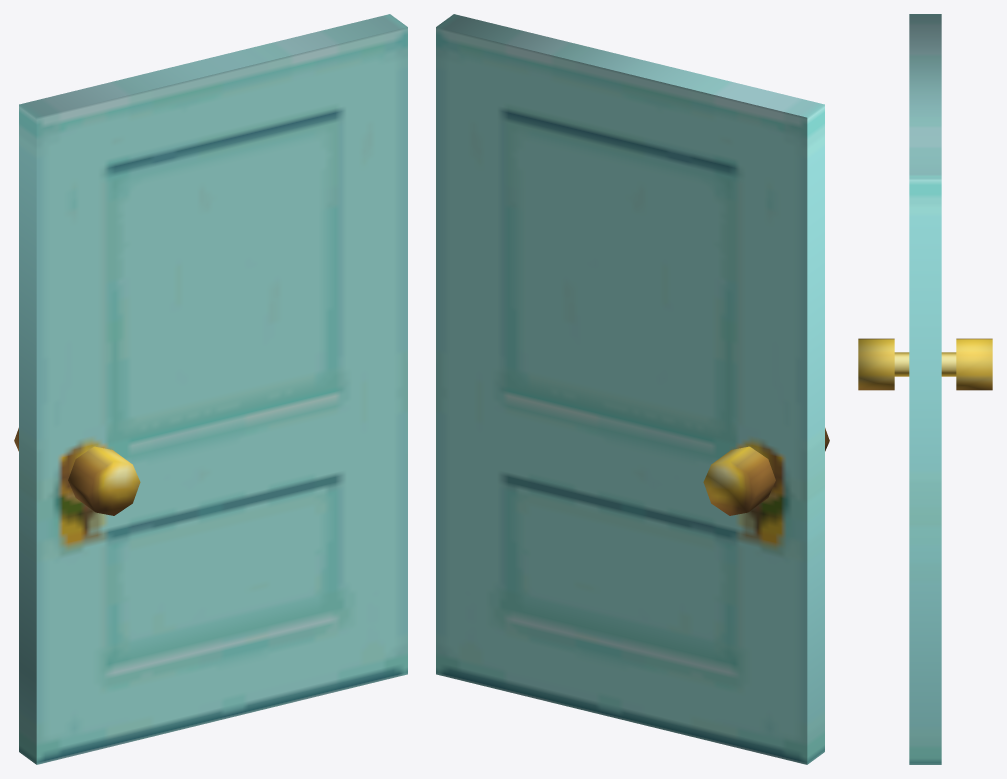
The model's file is door.fbx.
3 renders of one model, left to right at view 1: azimuth 30°, elevation 25°; view 2: azimuth 150°, elevation 25°; view 3: azimuth 270°, elevation 25°, orthographic. The views are drawn at different scales.
Parts seen in each view (by area): view 1: m0; view 2: m0; view 3: m0.
Boxes of the visible parts, x1=… form: m0: x1=14, y1=14, x2=407, y2=764; m0: x1=436, y1=14, x2=829, y2=764; m0: x1=858, y1=14, x2=992, y2=764.
Bounding box in the file's own units: 150 × 250 × 51.76.
1 material, 1 textured.
